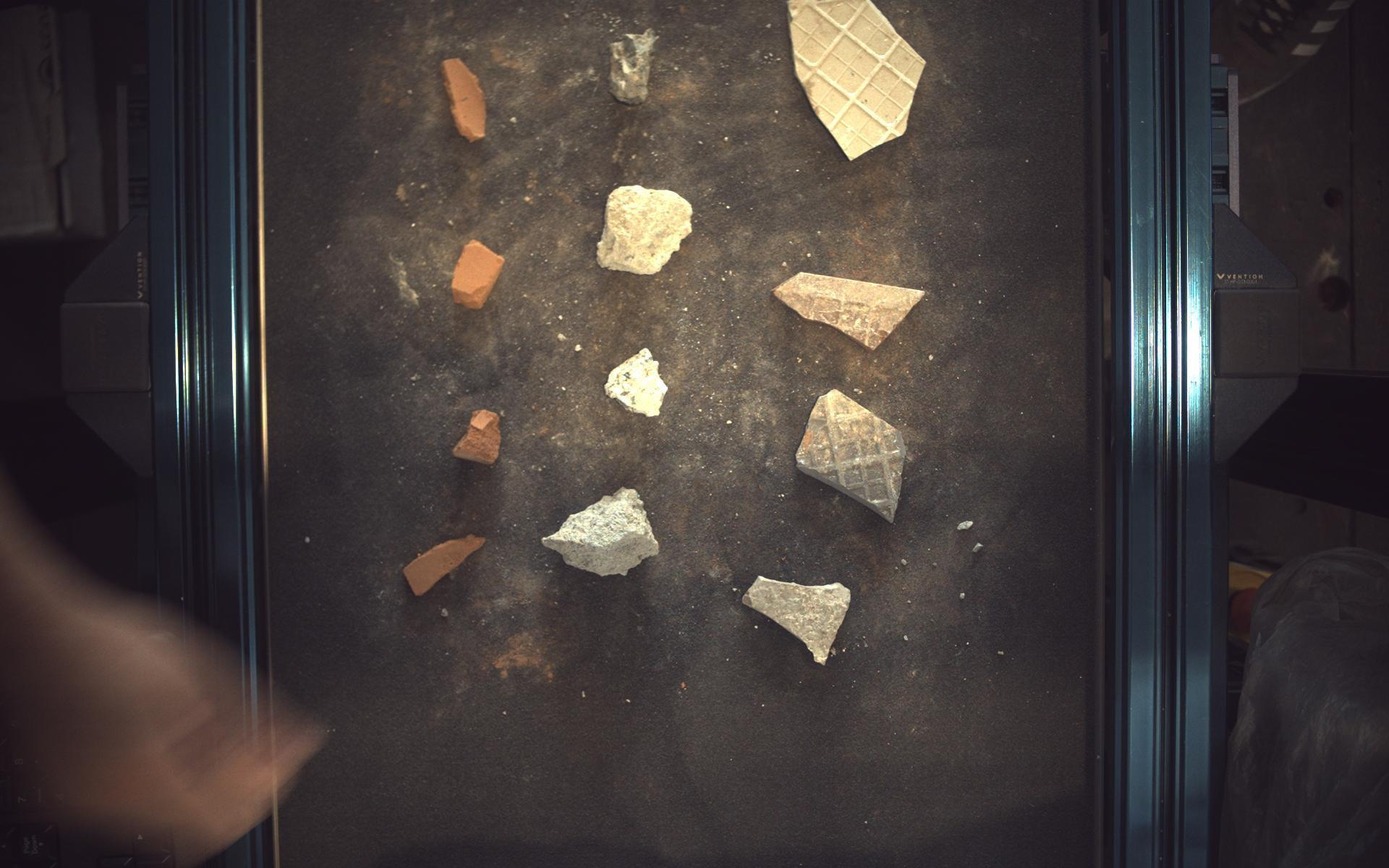brick: (403, 535, 485, 596), (441, 57, 486, 140), (451, 239, 504, 309), (452, 409, 501, 465)
concrete: (542, 488, 660, 576), (598, 184, 693, 274), (606, 348, 668, 417), (611, 27, 658, 103)
tile: (791, 1, 927, 158), (798, 389, 907, 522), (775, 272, 926, 349), (744, 577, 852, 665)
